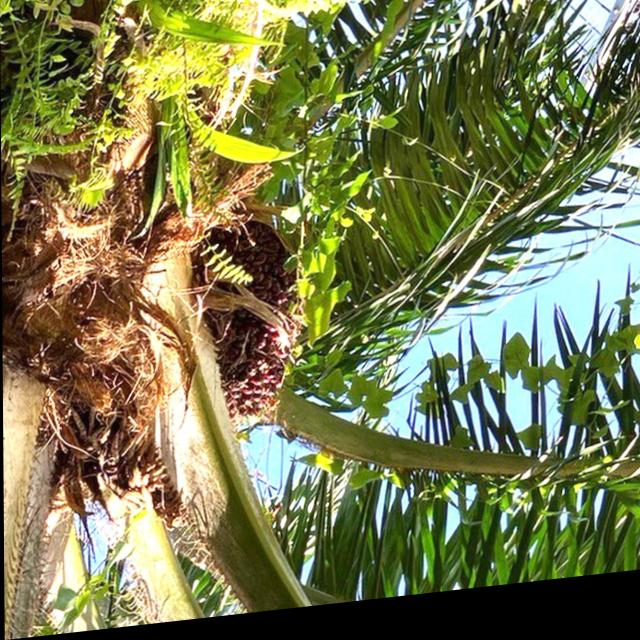ripe: (199, 231, 300, 433)
